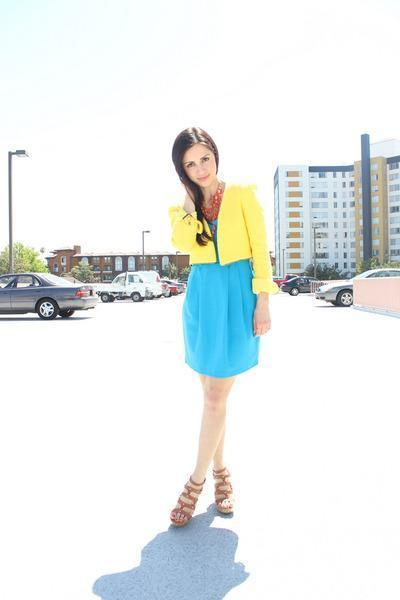jacket: (168, 185, 285, 299), (183, 252, 259, 377)
shoe: (170, 462, 232, 528)
